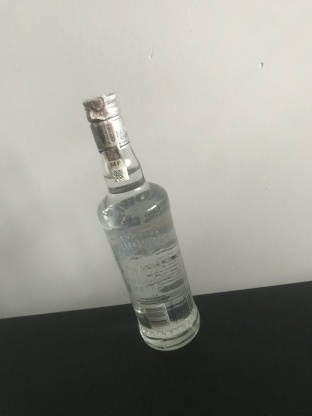nakretka: (80, 90, 131, 155)
